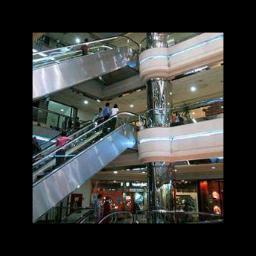Escaleras: (33, 112, 140, 219), (33, 43, 143, 98)
